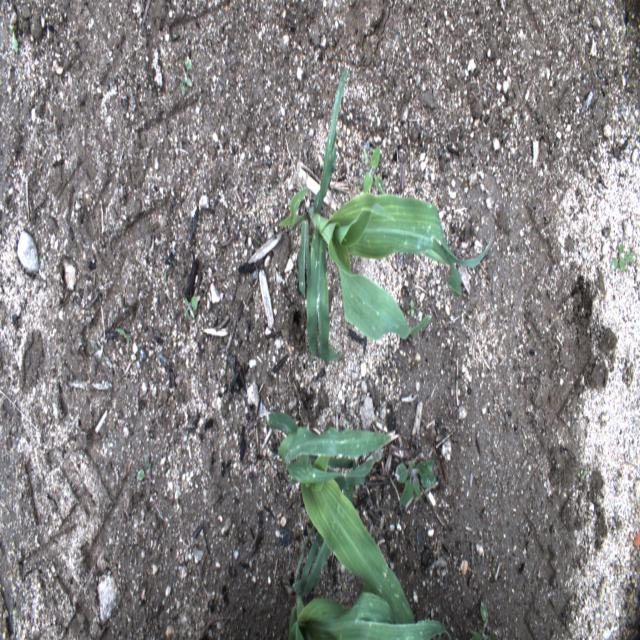crop: (277, 57, 492, 366), (266, 409, 418, 634), (288, 589, 453, 638)
weed: (394, 460, 438, 508), (363, 145, 389, 202), (608, 234, 633, 270), (181, 56, 193, 95), (185, 297, 199, 320)
